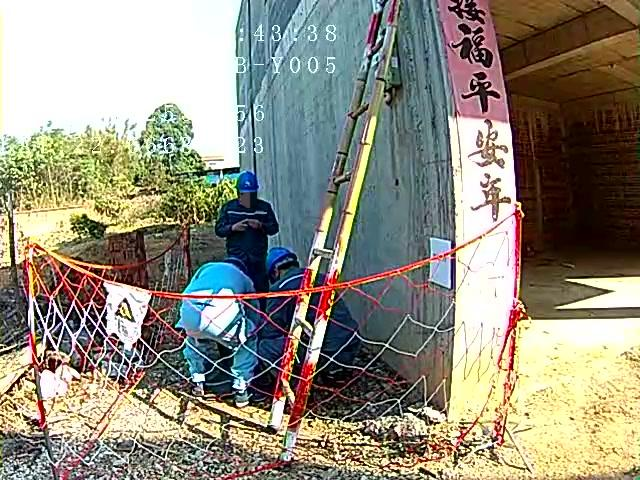halt: (269, 249, 302, 284), (238, 173, 263, 207)
